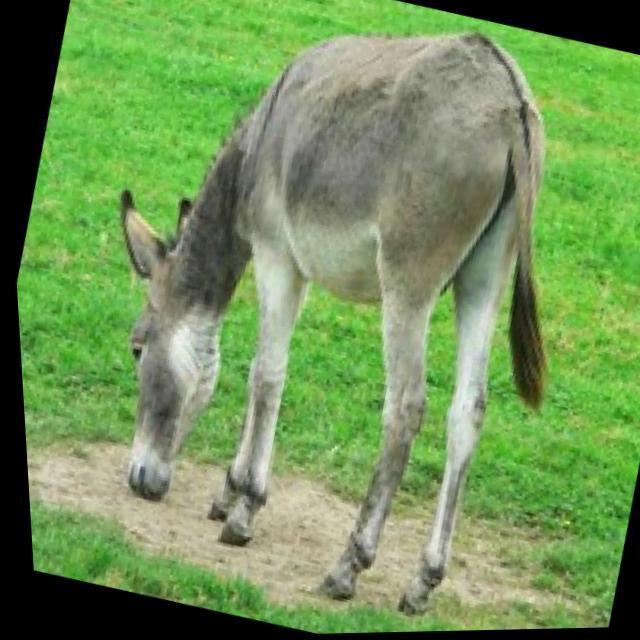Donkey: (24, 0, 635, 640)
